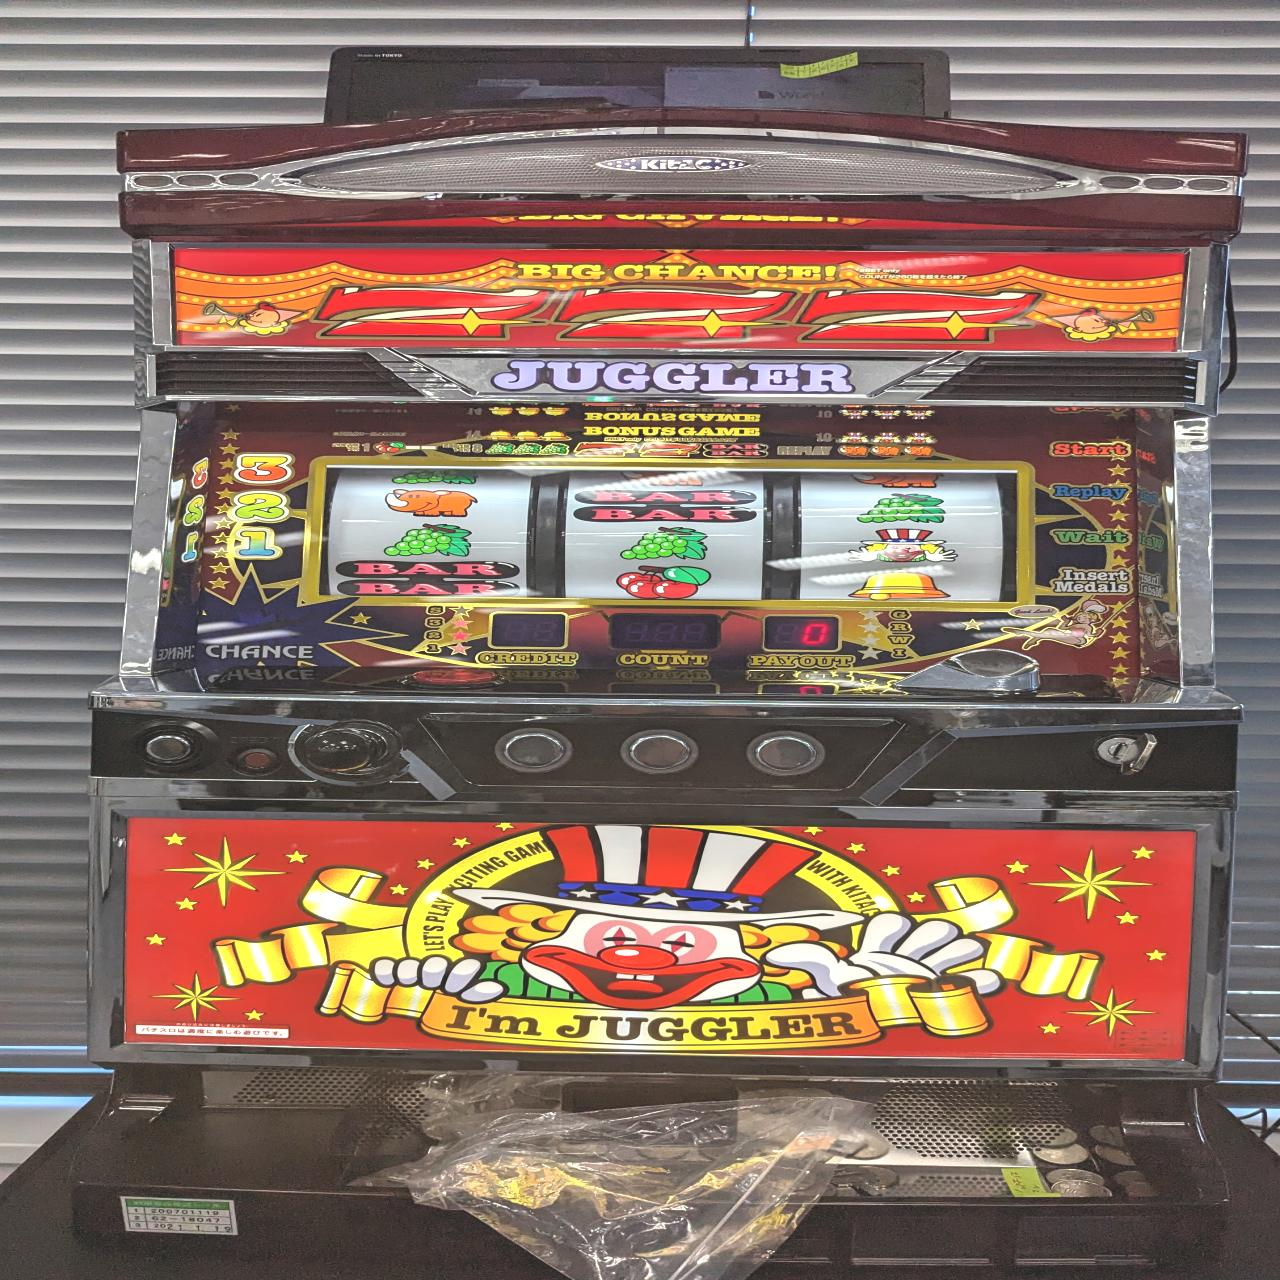8: (383, 489, 481, 519)
Display: (322, 459, 1027, 605)
bar: (328, 559, 524, 598), (564, 486, 762, 523)
bell: (846, 570, 956, 604)
cherry: (615, 564, 714, 601)
clown: (845, 526, 964, 566)
grape: (383, 522, 475, 559), (620, 524, 712, 561), (852, 491, 949, 524)
